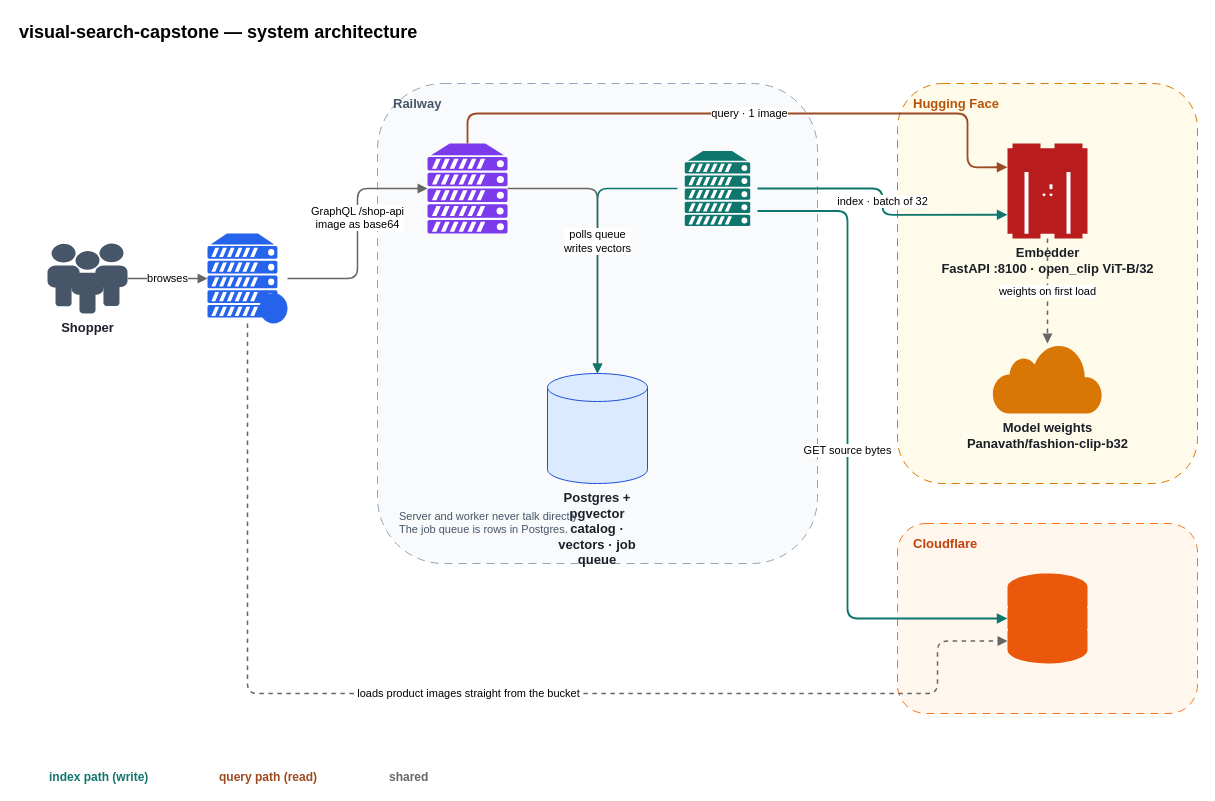
Some shapes in this 1215 by 801 pixel diagram are drawn without their labels. The shapes that lost their labels are listed below. From the top down, each one's centre as x and y in pixels, then its label:
(467,188): Vendure Server Shop + Admin API :3000
(717,188): Vendure Worker job queue, concurrency 4
(247,278): Storefront Next.js :3001
(1047,618): R2 object storage source + preview images
